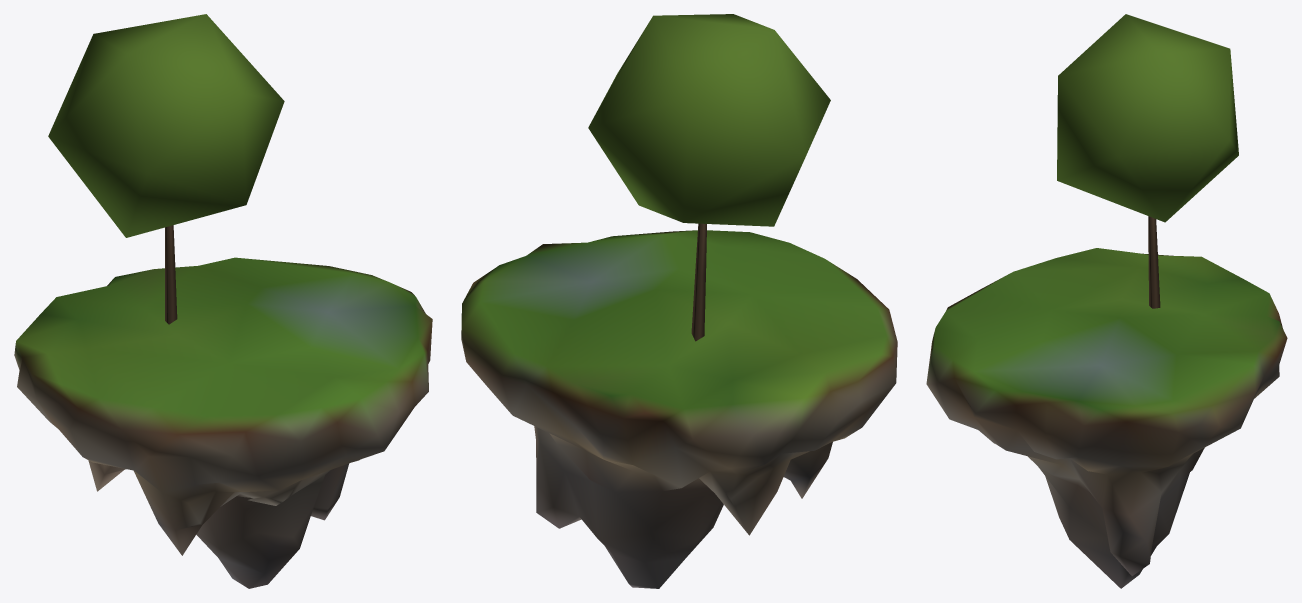
File: island-tiny-lod2.glb
3 renders of one model, left to right at view 1: azimuth 30°, elevation 25°; view 2: azimuth 150°, elevation 25°; view 3: azimuth 270°, elevation 25°, orthographic. The views are drawn at different scales.
Parts seen in each view (by area): view 1: Silhouette; view 2: Silhouette; view 3: Silhouette.
Boxes of the visible parts, x1,y1,x2,y2 form: Silhouette: (14, 14, 432, 588); Silhouette: (461, 14, 897, 588); Silhouette: (926, 14, 1287, 588).
Size of the model in its own units: 14.66 by 21.32 by 13.5.
